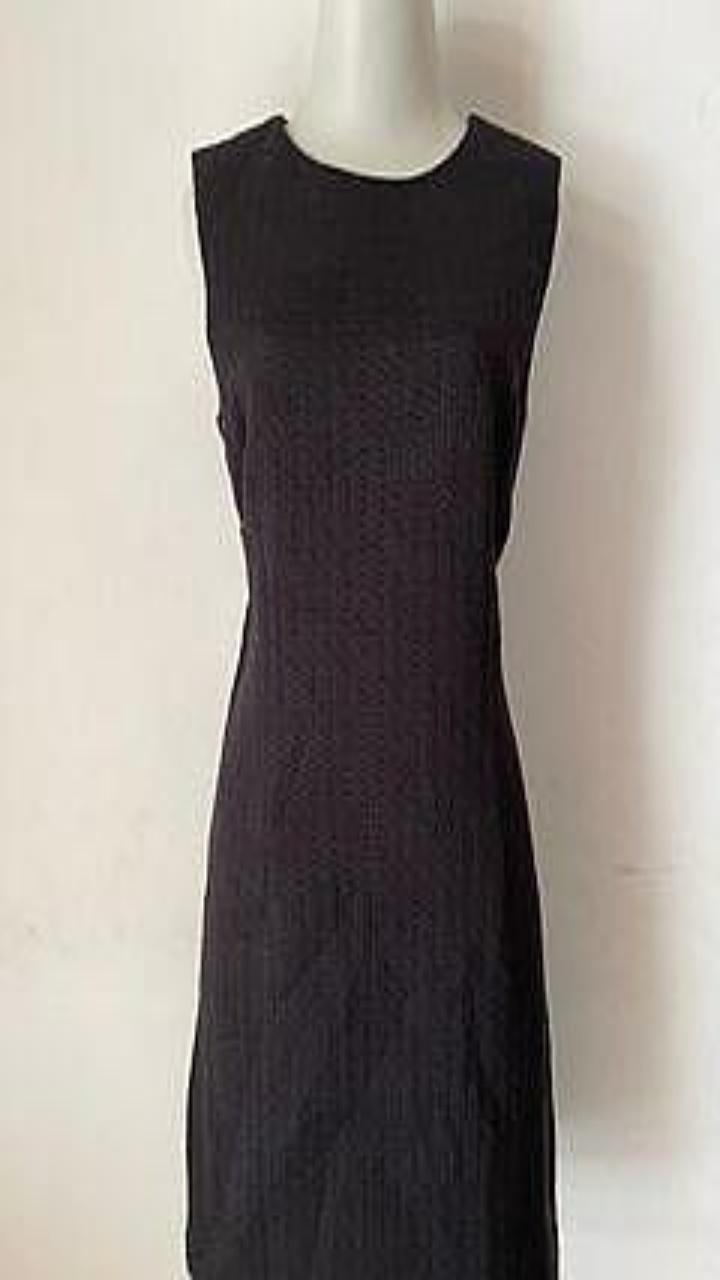Dresses: (186, 112, 560, 1279)
